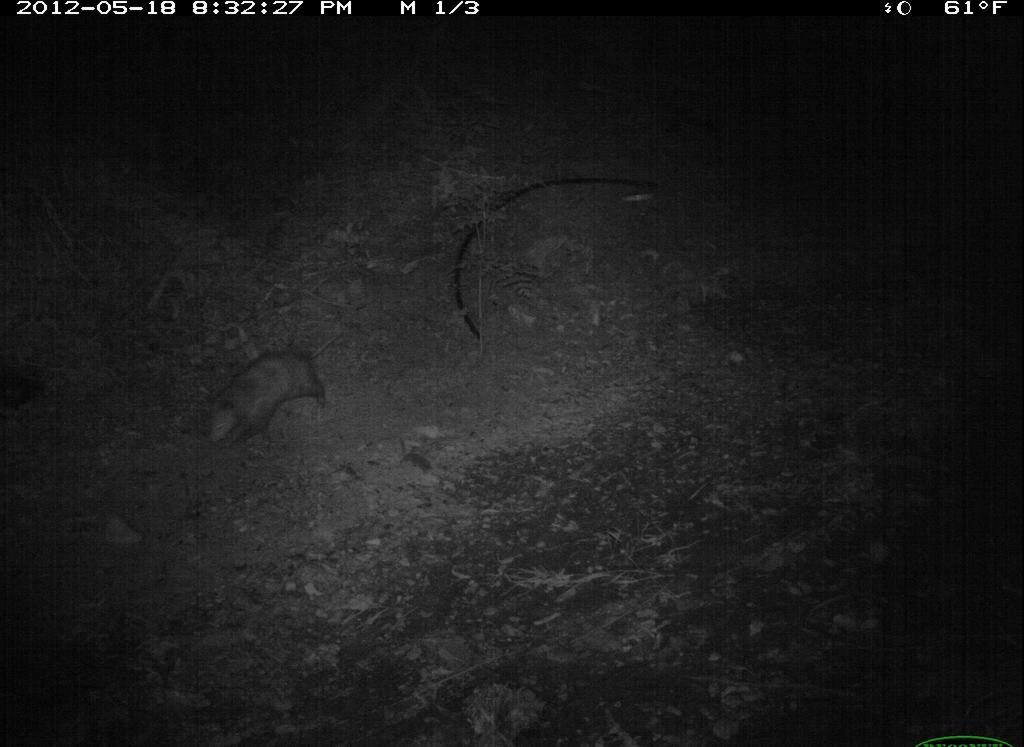opossum: (196, 341, 349, 460)
